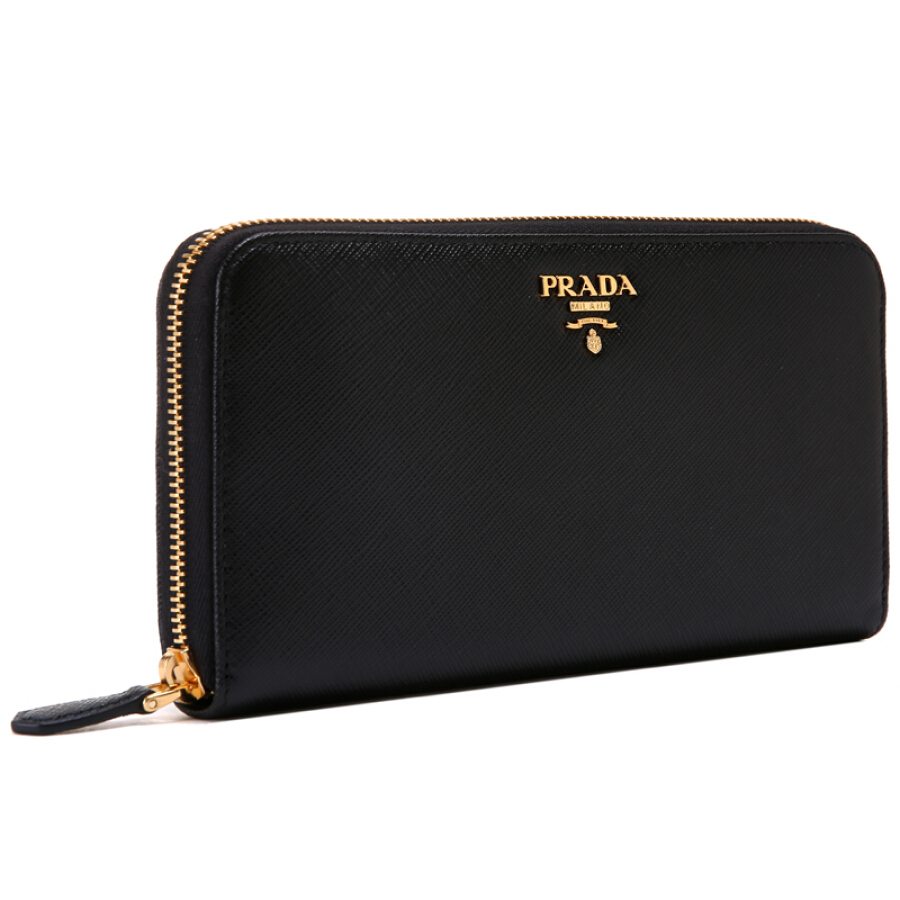Prada: (534, 269, 639, 300)
